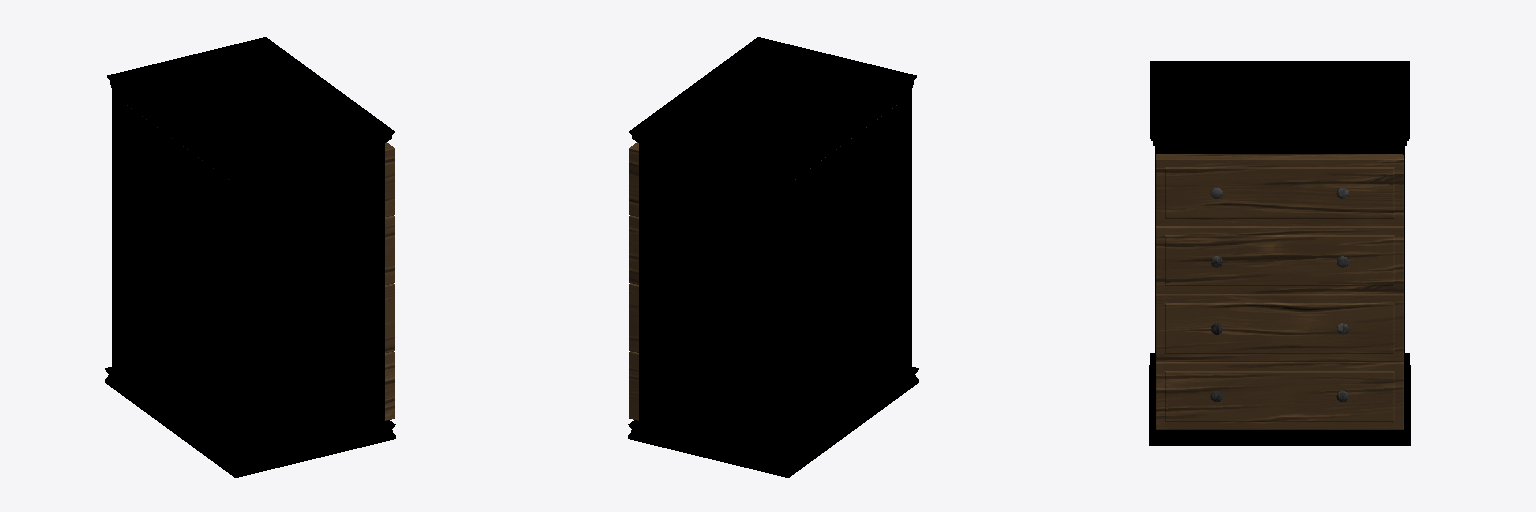
3 renders of one model, left to right at view 1: azimuth 30°, elevation 25°; view 2: azimuth 150°, elevation 25°; view 3: azimuth 270°, elevation 25°, orthographic.
Parts seen in each view (by area): view 1: DRAWEROBJ:drawerdrawers1drawer_4drawer_5 polySurface7, DRAWEROBJ:drawerdrawers1drawer_4drawer_5 polySurface8, polySurface13 DRAWEROBJ:drawerdrawers1drawer_4drawer_5, DRAWEROBJ:drawerdrawers1drawer_4drawer_5 polySurface14, DRAWEROBJ:drawerdrawers1drawer_4drawer_5 polySurface1, DRAWEROBJ:drawerdrawers1drawer_4drawer_5 polySurface3; view 2: DRAWEROBJ:drawerdrawers1drawer_4drawer_5 polySurface7, DRAWEROBJ:drawerdrawers1drawer_4drawer_5 polySurface8, polySurface13 DRAWEROBJ:drawerdrawers1drawer_4drawer_5, DRAWEROBJ:drawerdrawers1drawer_4drawer_5 polySurface1, DRAWEROBJ:drawerdrawers1drawer_4drawer_5 polySurface14, DRAWEROBJ:drawerdrawers1drawer_4drawer_5 polySurface3; view 3: DRAWEROBJ:drawerdrawers1drawer_4drawer_5 polySurface8, polySurface13 DRAWEROBJ:drawerdrawers1drawer_4drawer_5, DRAWEROBJ:drawerdrawers1drawer_4drawer_5 polySurface3, DRAWEROBJ:drawerdrawers1drawer_4drawer_5 polySurface1, DRAWEROBJ:drawerdrawers1drawer_4drawer_5 polySurface14, DRAWEROBJ:drawerdrawers1drawer_4drawer_5 polySurface7.
Boxes of the visible parts, box(x1,y1,x2,y2) form: DRAWEROBJ:drawerdrawers1drawer_4drawer_5 polySurface7: box(105, 95, 395, 477); DRAWEROBJ:drawerdrawers1drawer_4drawer_5 polySurface8: box(107, 37, 394, 184); polySurface13 DRAWEROBJ:drawerdrawers1drawer_4drawer_5: box(127, 105, 394, 216); DRAWEROBJ:drawerdrawers1drawer_4drawer_5 polySurface14: box(385, 283, 394, 352); DRAWEROBJ:drawerdrawers1drawer_4drawer_5 polySurface1: box(385, 216, 394, 284); DRAWEROBJ:drawerdrawers1drawer_4drawer_5 polySurface3: box(385, 351, 394, 420); DRAWEROBJ:drawerdrawers1drawer_4drawer_5 polySurface7: box(628, 95, 918, 477); DRAWEROBJ:drawerdrawers1drawer_4drawer_5 polySurface8: box(629, 37, 916, 184); polySurface13 DRAWEROBJ:drawerdrawers1drawer_4drawer_5: box(629, 105, 896, 216); DRAWEROBJ:drawerdrawers1drawer_4drawer_5 polySurface1: box(629, 215, 638, 284); DRAWEROBJ:drawerdrawers1drawer_4drawer_5 polySurface14: box(629, 283, 638, 352); DRAWEROBJ:drawerdrawers1drawer_4drawer_5 polySurface3: box(629, 351, 638, 420); DRAWEROBJ:drawerdrawers1drawer_4drawer_5 polySurface8: box(1150, 61, 1409, 151); polySurface13 DRAWEROBJ:drawerdrawers1drawer_4drawer_5: box(1156, 154, 1403, 225); DRAWEROBJ:drawerdrawers1drawer_4drawer_5 polySurface3: box(1156, 362, 1403, 429); DRAWEROBJ:drawerdrawers1drawer_4drawer_5 polySurface1: box(1156, 226, 1403, 293); DRAWEROBJ:drawerdrawers1drawer_4drawer_5 polySurface14: box(1156, 294, 1403, 361); DRAWEROBJ:drawerdrawers1drawer_4drawer_5 polySurface7: box(1149, 152, 1410, 445).
Size of the model in its own units: 3.68 by 6.29 by 4.84.
4 materials, 2 textured.